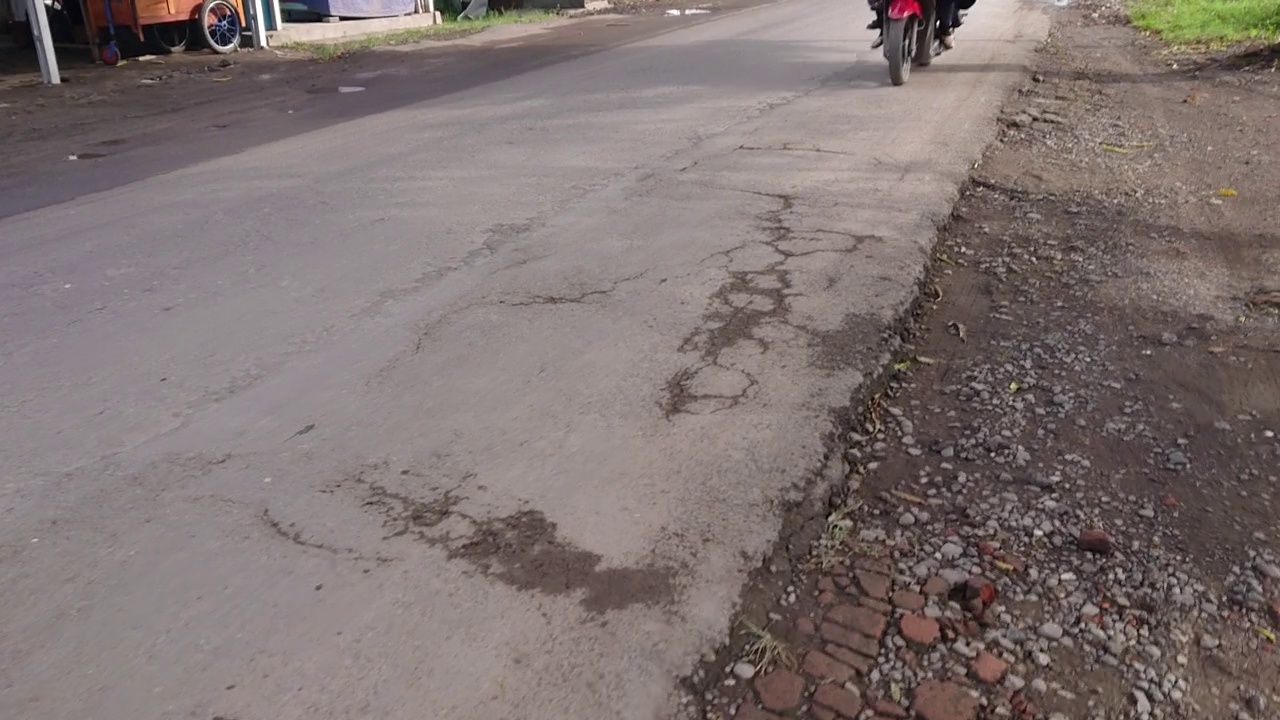Retak: (365, 480, 679, 622), (663, 200, 847, 397)
